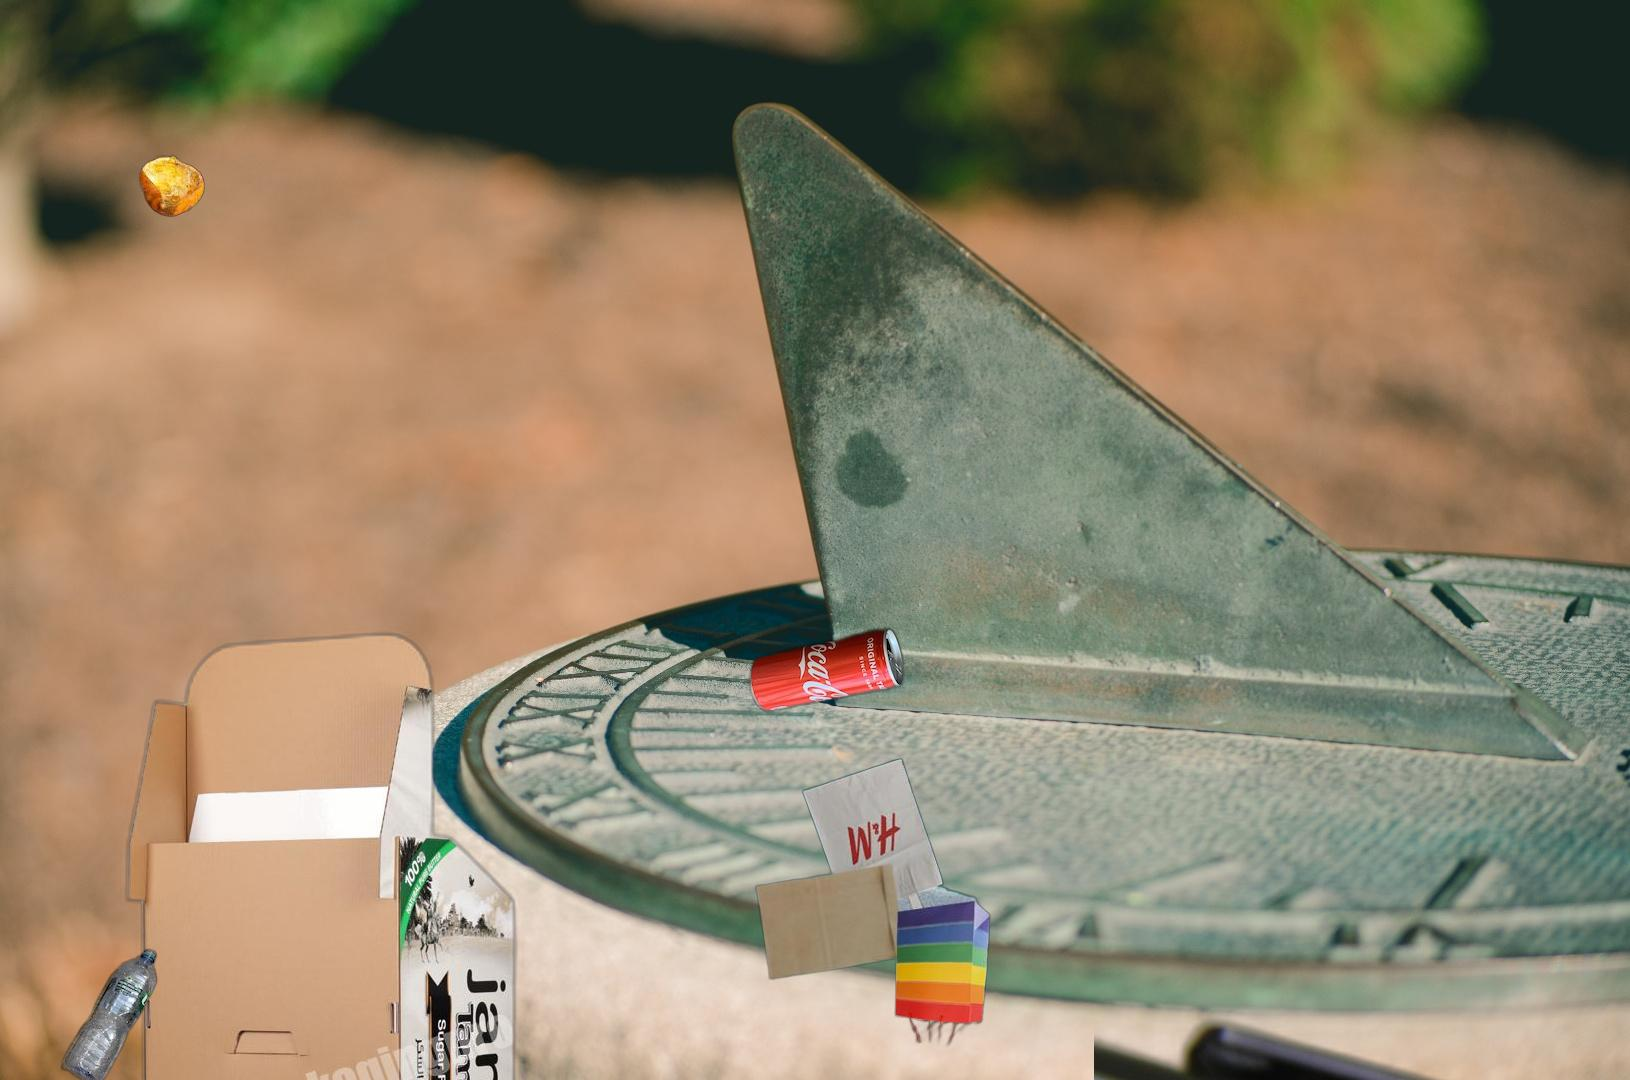biological: (125, 134, 304, 310)
metal-cans: (746, 623, 908, 718)
paper-bag: (701, 756, 993, 1053)
penholder: (1094, 382, 1630, 1080)
plastic-bottles: (57, 945, 161, 1080), (1601, 162, 1630, 641)
trashbox-cardboard: (117, 626, 524, 1080), (1610, 562, 1630, 1080)
